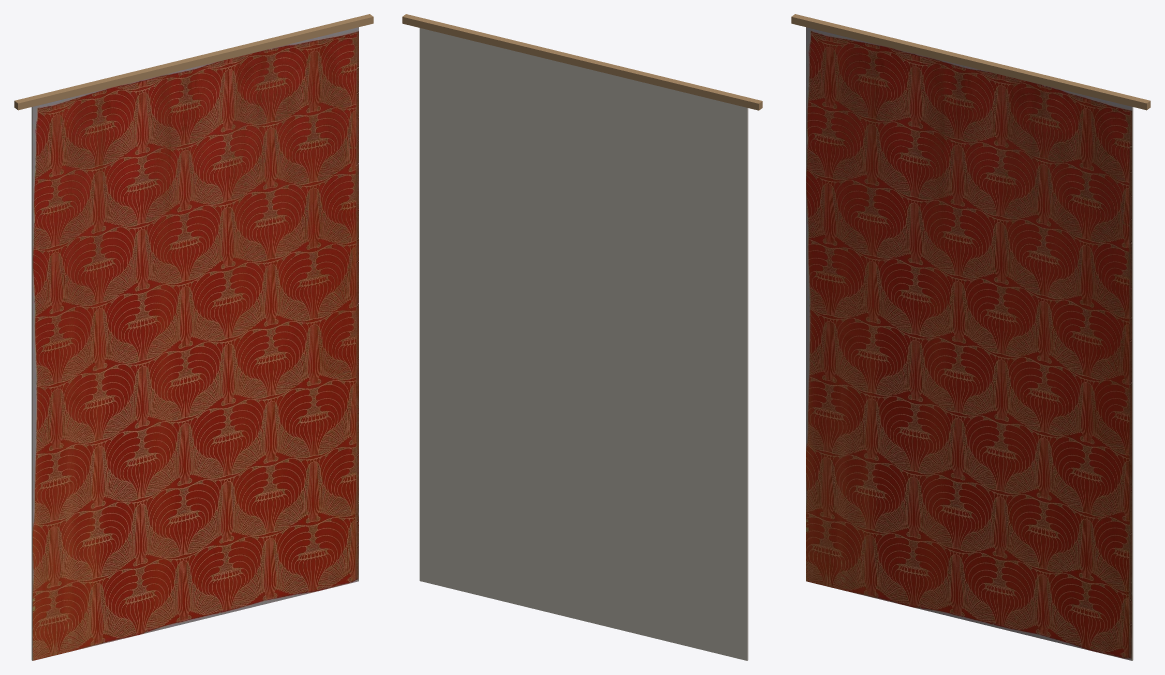
File: tapestry-moser-poppyheads.glb
3 views of the same model, side by side, from view 1: azimuth 30°, elevation 25°; view 2: azimuth 150°, elevation 25°; view 3: azimuth 330°, elevation 25° (orthographic).
Visible parts, largest first — view 1: tapestry-moser-poppyheads; view 2: tapestry-moser-poppyheads; view 3: tapestry-moser-poppyheads.
Part boxes in pixels (box(x1,y1,x2,y2)): tapestry-moser-poppyheads: box(14, 14, 373, 660); tapestry-moser-poppyheads: box(402, 14, 762, 660); tapestry-moser-poppyheads: box(791, 14, 1150, 660).
Size of the model in its own units: 0.98 by 1.48 by 0.018.
Materials: 3 (1 with a texture image).
